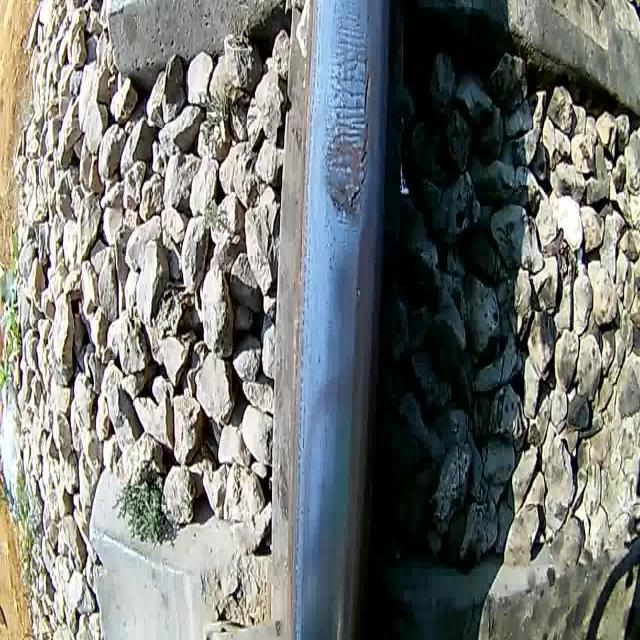Spallings: (348, 45, 374, 216)
Squats: (318, 2, 379, 232)
